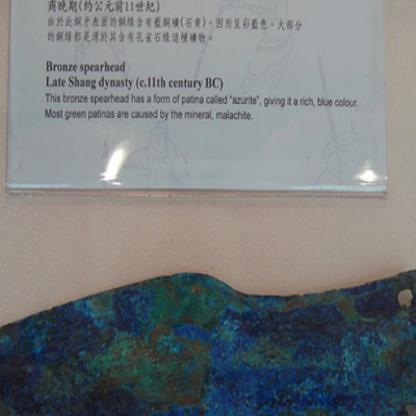knife: (0, 266, 415, 415)
